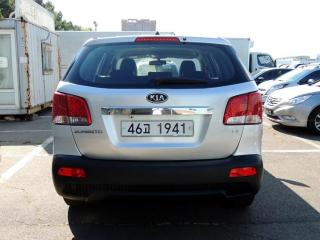1: (156, 122, 164, 134), (180, 122, 188, 134)
4: (127, 122, 135, 135), (172, 123, 180, 135)
6: (135, 123, 143, 135)
9: (164, 122, 171, 134)
plate: (116, 117, 198, 139)
고: (143, 123, 151, 134)
